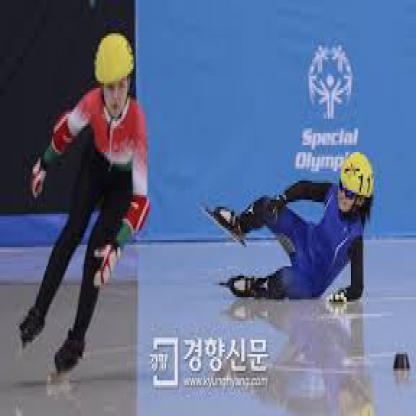Fall_Down: (211, 152, 376, 304)
